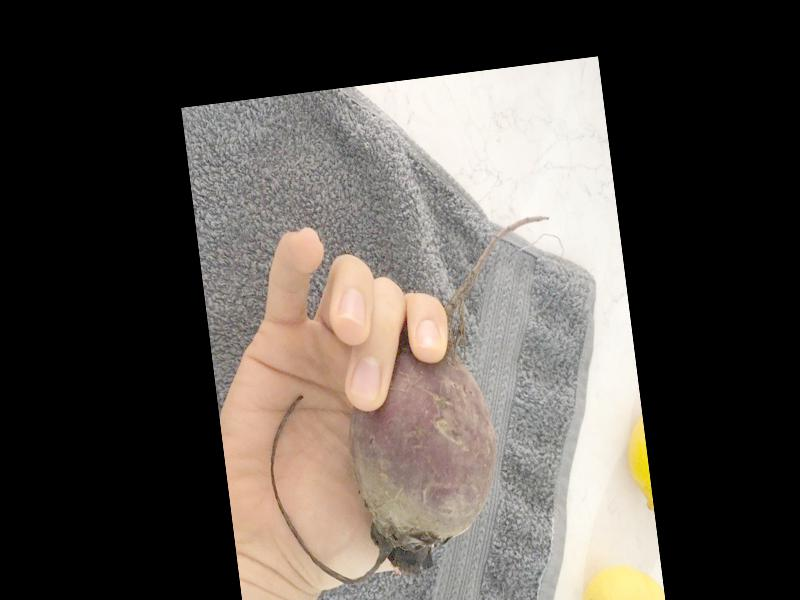Beet: (243, 215, 590, 589)
